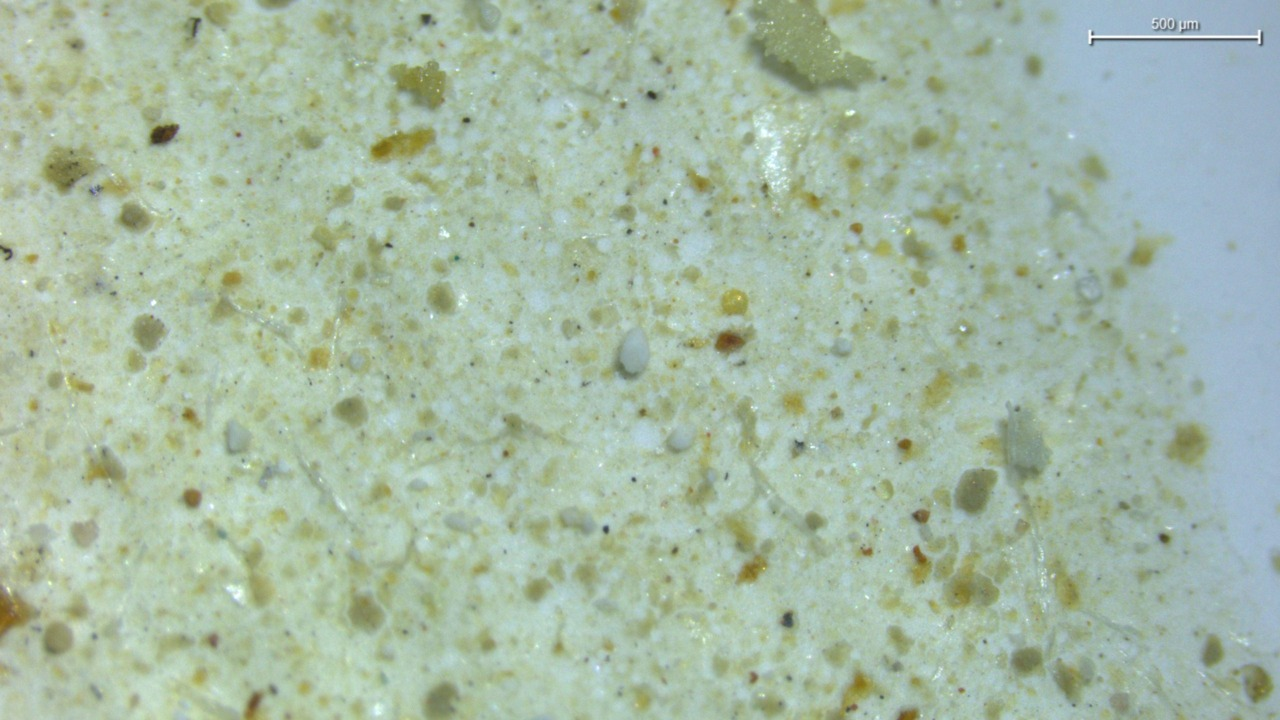microplastic_fragment: (751, 0, 875, 90), (1002, 405, 1051, 480), (390, 61, 447, 109), (618, 327, 649, 374), (226, 421, 251, 453), (666, 425, 696, 451)
